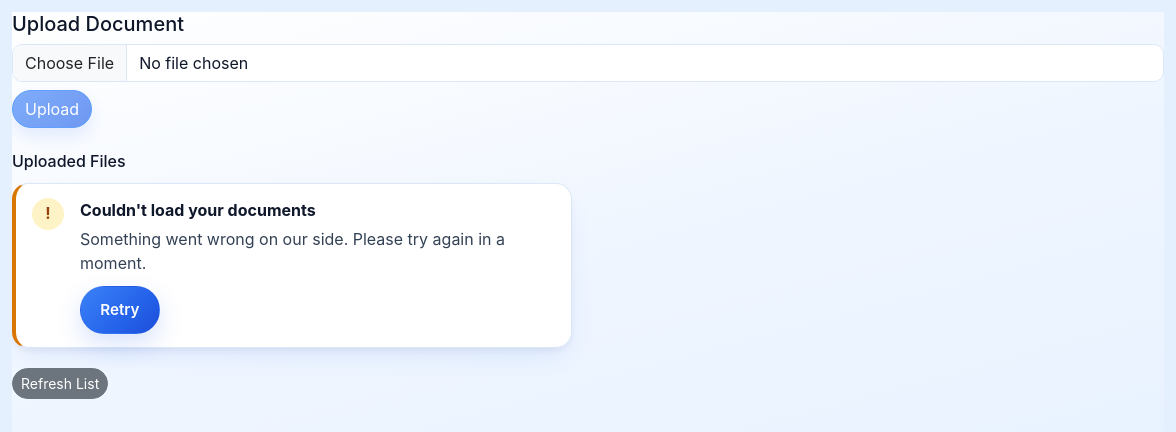
it: UploadsManager (Docs tab) › a failed load shows a friendly error with Retry, and Retry recovers
Expected: the message shows "Couldn't load your documents", [80, 200, 316, 220]
Expected: the message does not show "status code 500", [12, 183, 572, 348]
Click the button "Retry": [120, 310] box [80, 286, 160, 334]
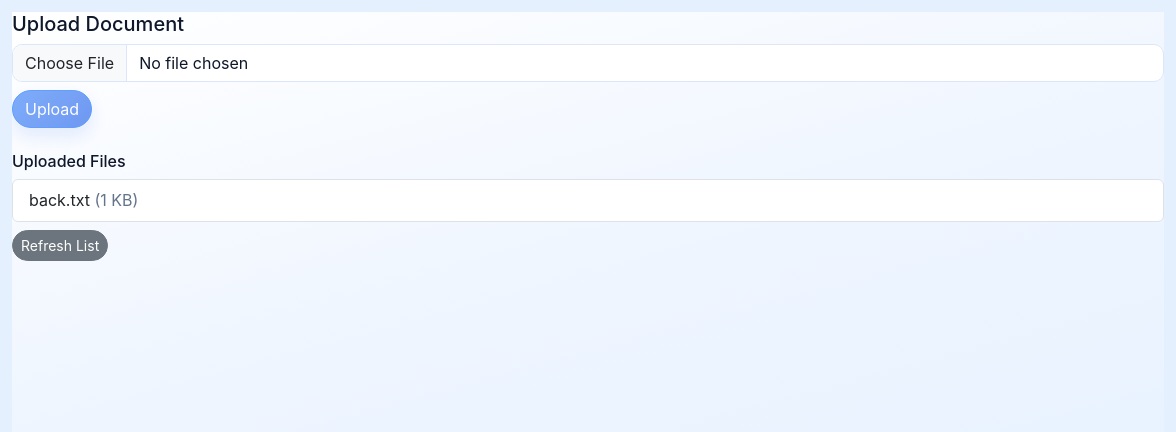
Expected: the text "back.txt" is shown, [29, 190, 90, 210]
